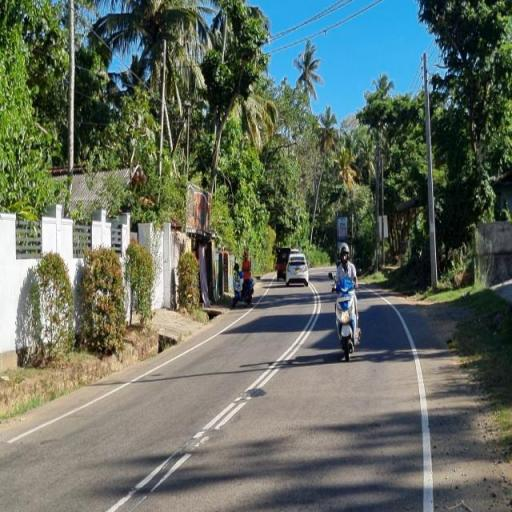double_white_line: (189, 284, 324, 443)
